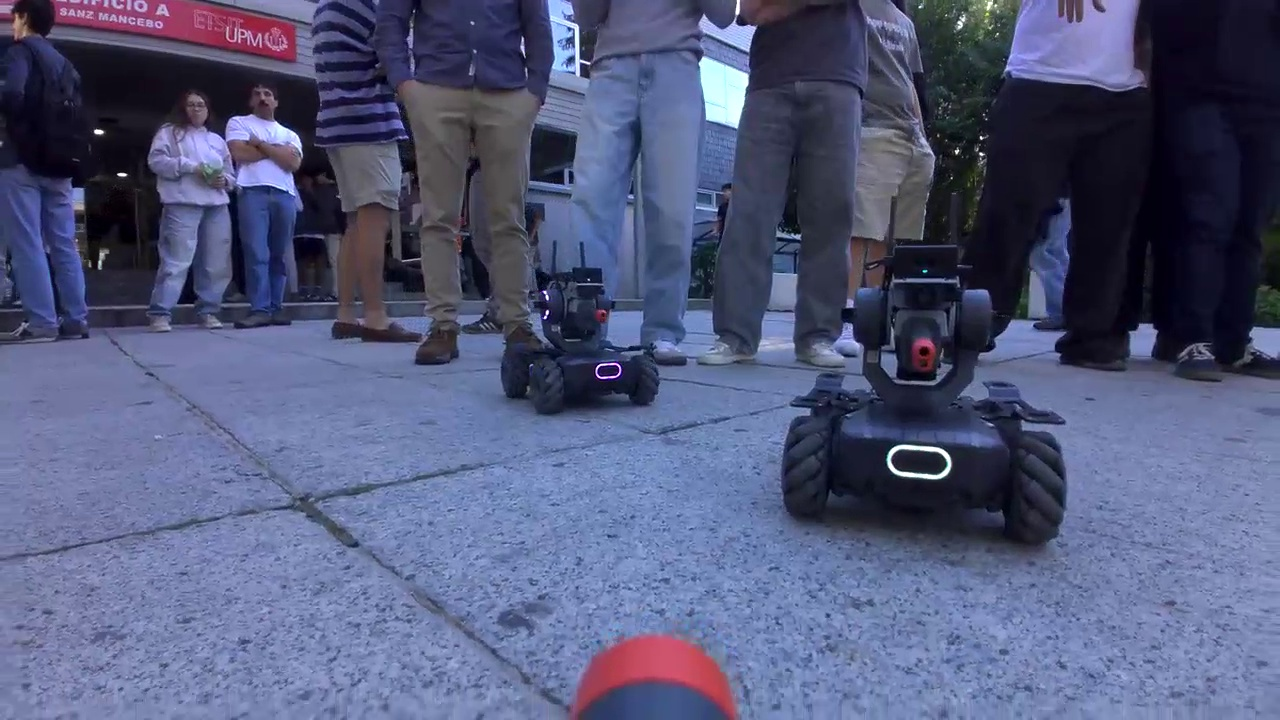robot: (781, 245, 1070, 547), (501, 267, 661, 417)
